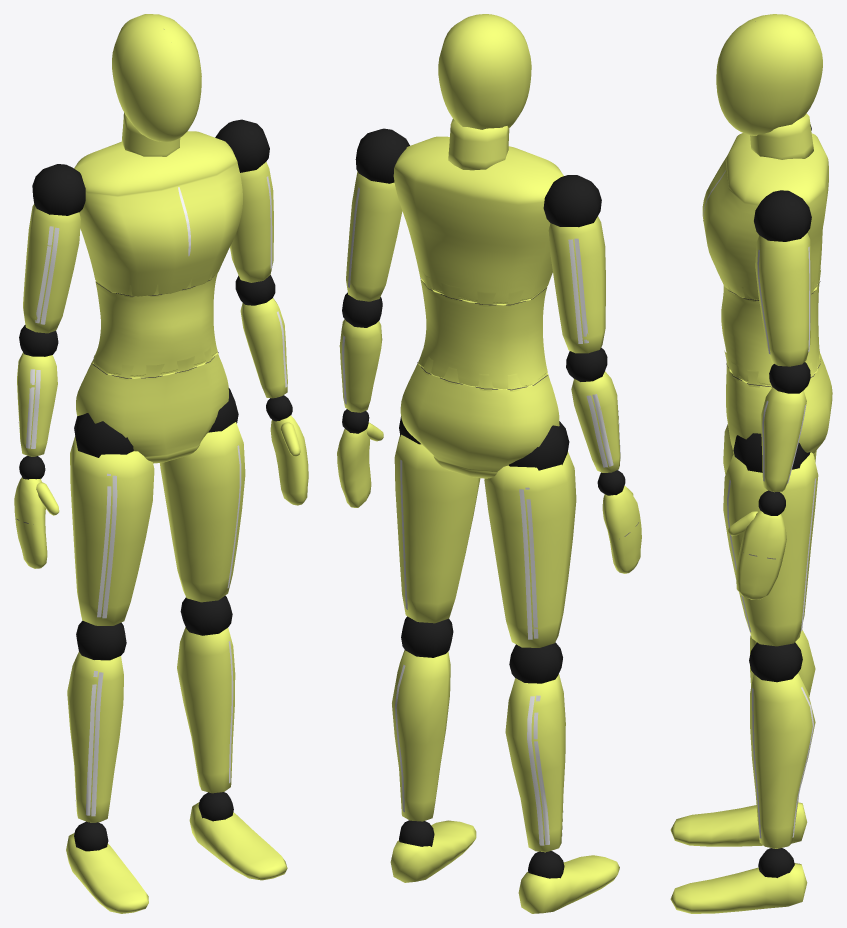
The model's file is person__crowd.glb.
The picture shows the model from 3 angles, left to right: view 1: azimuth 30°, elevation 25°; view 2: azimuth 150°, elevation 25°; view 3: azimuth 270°, elevation 25°; orthographic projection. The views are drawn at different scales.
Parts seen in each view (by area): view 1: geo_chest, geo_thigh_R, geo_thigh_L, geo_pelvis, geo_head, geo_abdomen, geo_shin_L, geo_shin_R, geo_upperArm_R, geo_upperArm_L, geo_foot_L, geo_foot_R (+20 smaller); view 2: geo_chest, geo_thigh_R, geo_pelvis, geo_thigh_L, geo_abdomen, geo_head, geo_shin_L, geo_shin_R, geo_upperArm_R, geo_upperArm_L, geo_foot_R, geo_foot_L (+20 smaller); view 3: geo_chest, geo_head, geo_thigh_L, geo_shin_L, geo_upperArm_L, geo_foot_L, geo_pelvis, geo_abdomen, geo_forearm_L, geo_hand_L, geo_foot_R, ball_shoulder_L (+8 smaller).
Part boxes in pixels (bbox=[...]): geo_chest: bbox=[74, 131, 242, 296]; geo_thigh_R: bbox=[70, 436, 154, 625]; geo_thigh_L: bbox=[160, 422, 245, 602]; geo_pelvis: bbox=[76, 352, 228, 463]; geo_head: bbox=[112, 14, 201, 141]; geo_abdomen: bbox=[93, 273, 217, 376]; geo_shin_L: bbox=[177, 627, 235, 793]; geo_shin_R: bbox=[67, 652, 123, 822]; geo_upperArm_R: bbox=[23, 204, 80, 333]; geo_upperArm_L: bbox=[230, 162, 273, 282]; geo_foot_L: bbox=[189, 802, 287, 880]; geo_foot_R: bbox=[66, 833, 148, 913]; geo_chest: bbox=[393, 136, 563, 303]; geo_thigh_R: bbox=[484, 452, 576, 647]; geo_pelvis: bbox=[400, 363, 559, 478]; geo_thigh_L: bbox=[394, 434, 480, 623]; geo_abdomen: bbox=[418, 279, 547, 389]; geo_head: bbox=[438, 14, 531, 129]; geo_shin_L: bbox=[392, 650, 450, 821]; geo_shin_R: bbox=[505, 674, 565, 852]; geo_upperArm_R: bbox=[548, 216, 605, 353]; geo_upperArm_L: bbox=[346, 171, 402, 301]; geo_foot_R: bbox=[518, 855, 619, 913]; geo_foot_L: bbox=[390, 820, 476, 882]; geo_chest: bbox=[702, 133, 828, 299]; geo_head: bbox=[716, 14, 822, 135]; geo_thigh_L: bbox=[723, 452, 818, 646]; geo_shin_L: bbox=[750, 673, 815, 848]; geo_upperArm_L: bbox=[755, 233, 811, 366]; geo_foot_L: bbox=[670, 863, 807, 913]; geo_pelvis: bbox=[726, 353, 832, 455]; geo_abdomen: bbox=[721, 284, 819, 385]; geo_forearm_L: bbox=[761, 387, 806, 492]; geo_hand_L: bbox=[736, 510, 786, 599]; geo_foot_R: bbox=[670, 802, 807, 846]; ball_shoulder_L: bbox=[754, 190, 811, 241].
Size of the model in its own units: 0.6076 by 1.75 by 0.3001.
